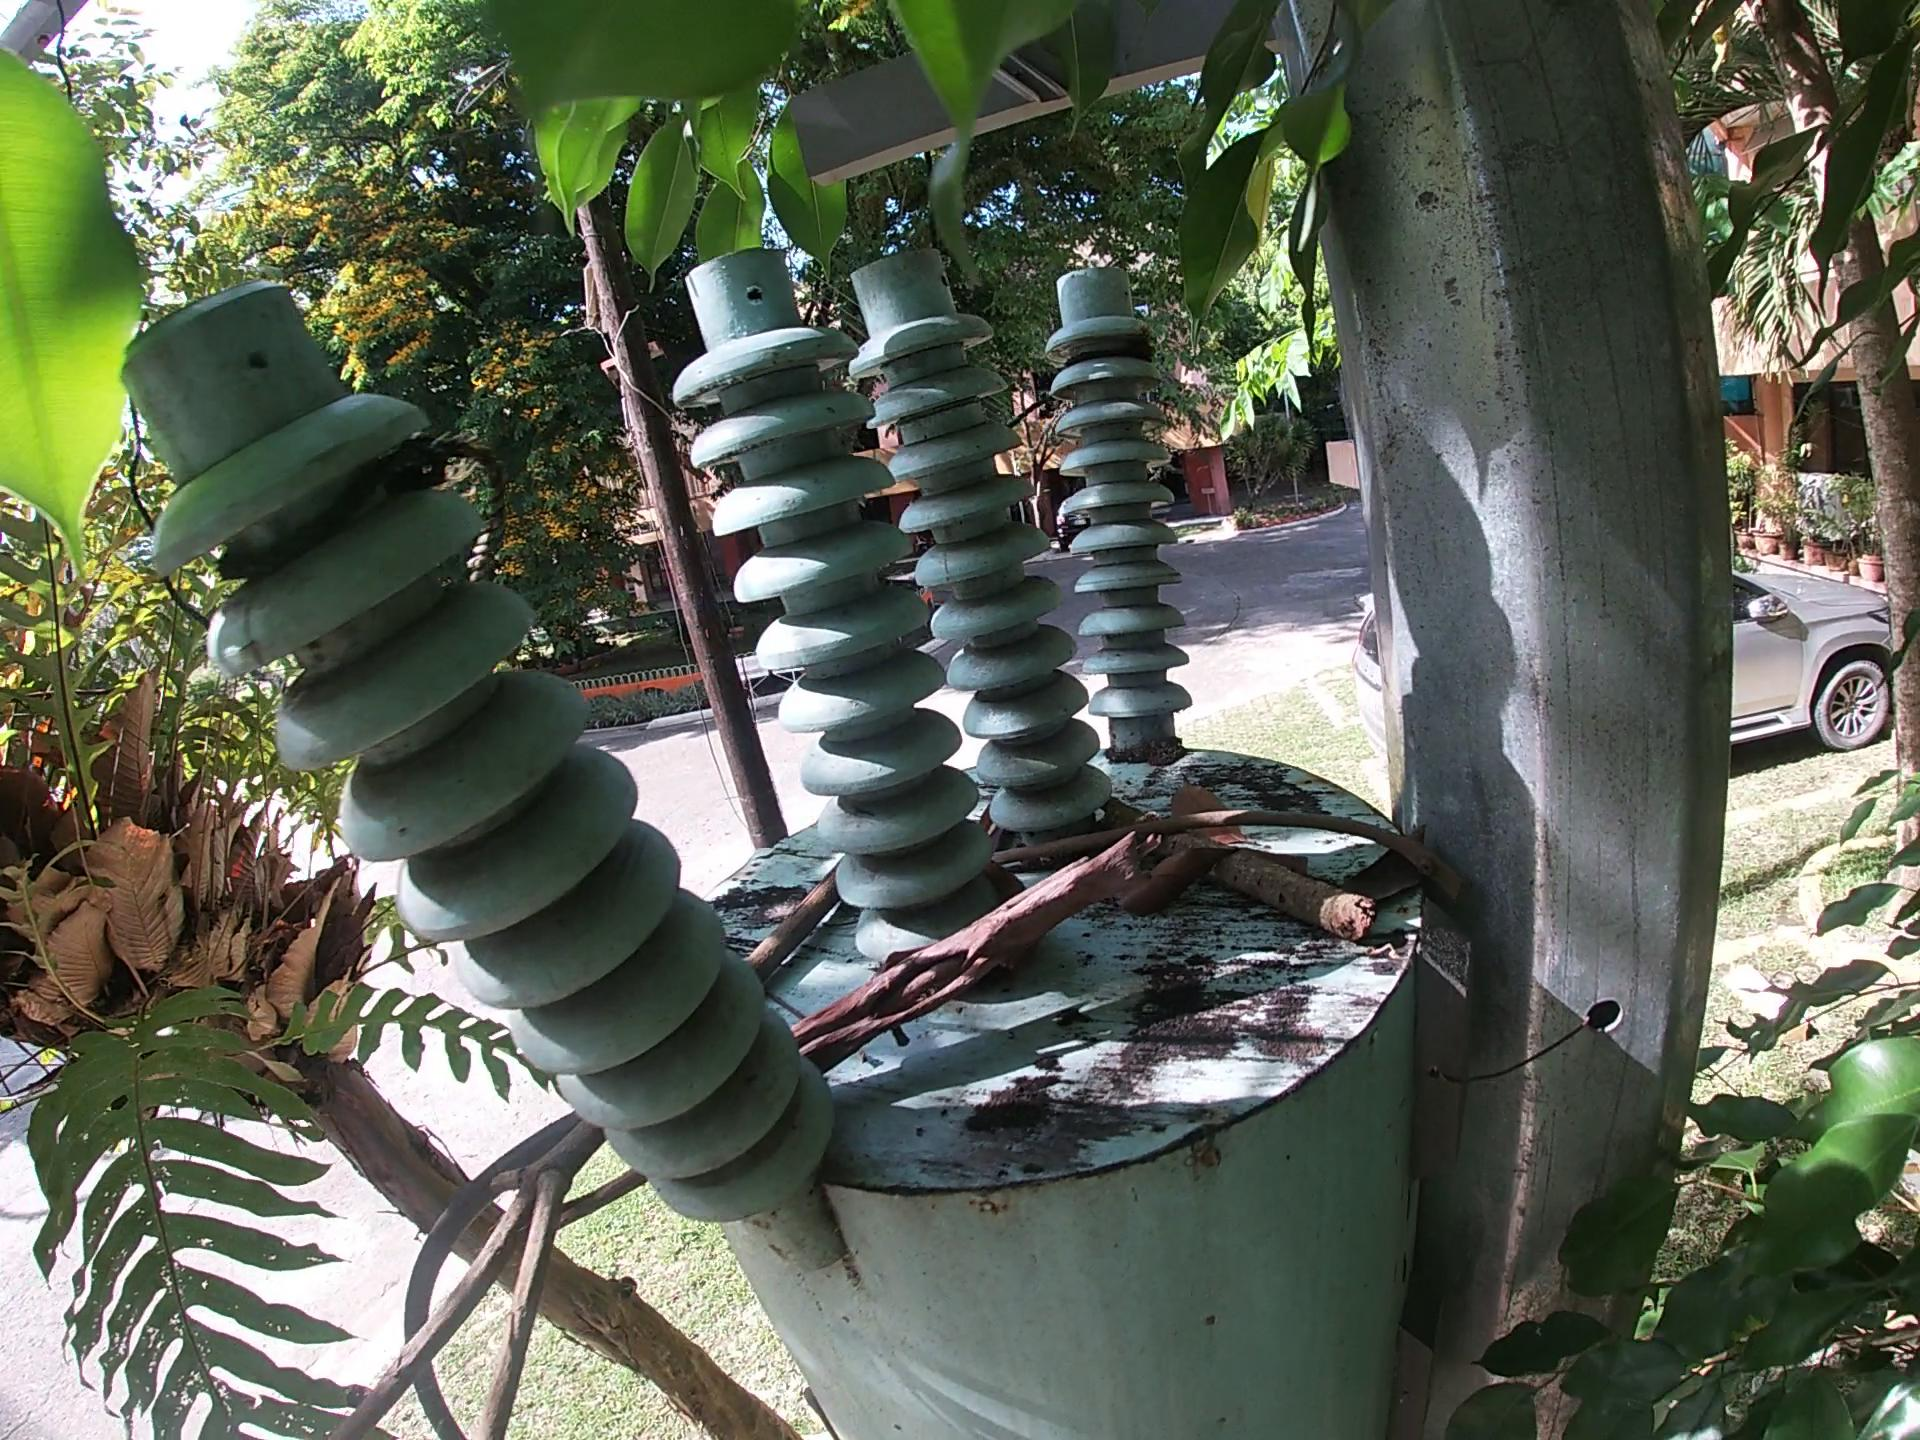leaf: (1119, 838, 1235, 926), (1330, 821, 1435, 917), (1158, 767, 1258, 852)
tree branch: (779, 821, 1172, 1078), (321, 1110, 614, 1438), (986, 799, 1486, 912), (1098, 793, 1376, 945), (738, 864, 848, 988), (500, 1172, 652, 1246)
